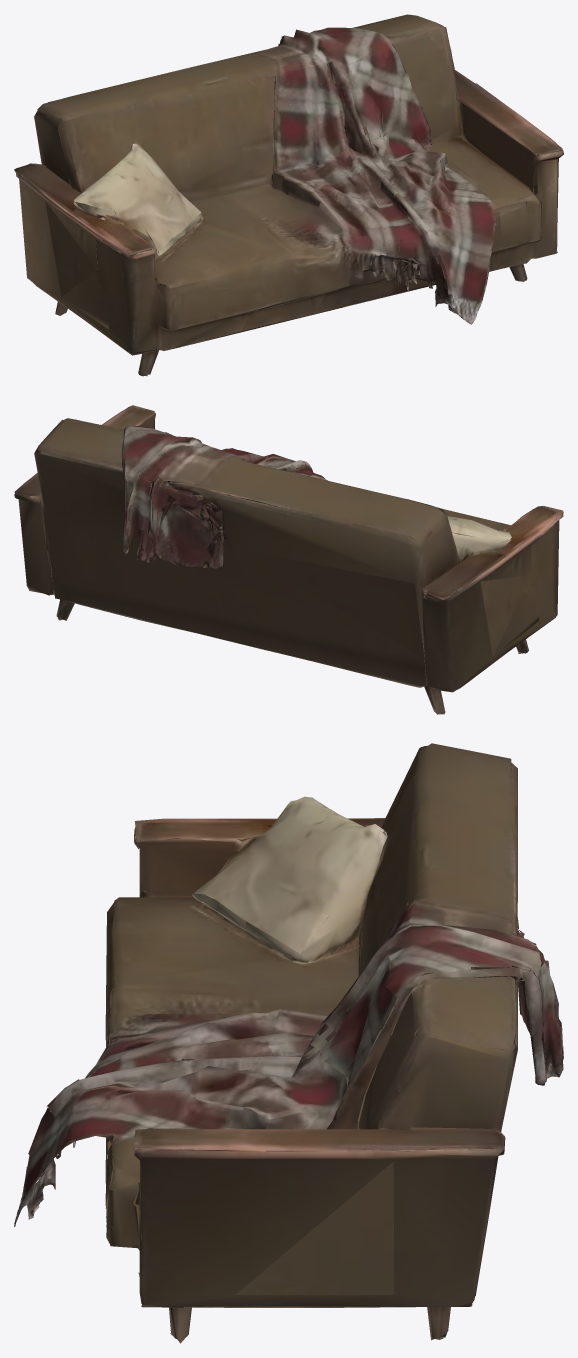
Rendered from basement_sofa.glb.
The picture shows the model from 3 angles, top to bottom: view 1: azimuth 30°, elevation 25°; view 2: azimuth 150°, elevation 25°; view 3: azimuth 270°, elevation 25°; orthographic projection. The views are drawn at different scales.
Parts seen in each view (by area): view 1: lair_sofa; view 2: lair_sofa; view 3: lair_sofa.
Part boxes in pixels (left/top/right/bottom): lair_sofa: left=14, top=14, right=563, bottom=376; lair_sofa: left=14, top=405, right=563, bottom=714; lair_sofa: left=14, top=743, right=563, bottom=1343.
Bounding box in the file's own units: 2 × 0.9062 × 1.39.
Materials: 1 (1 with a texture image).
